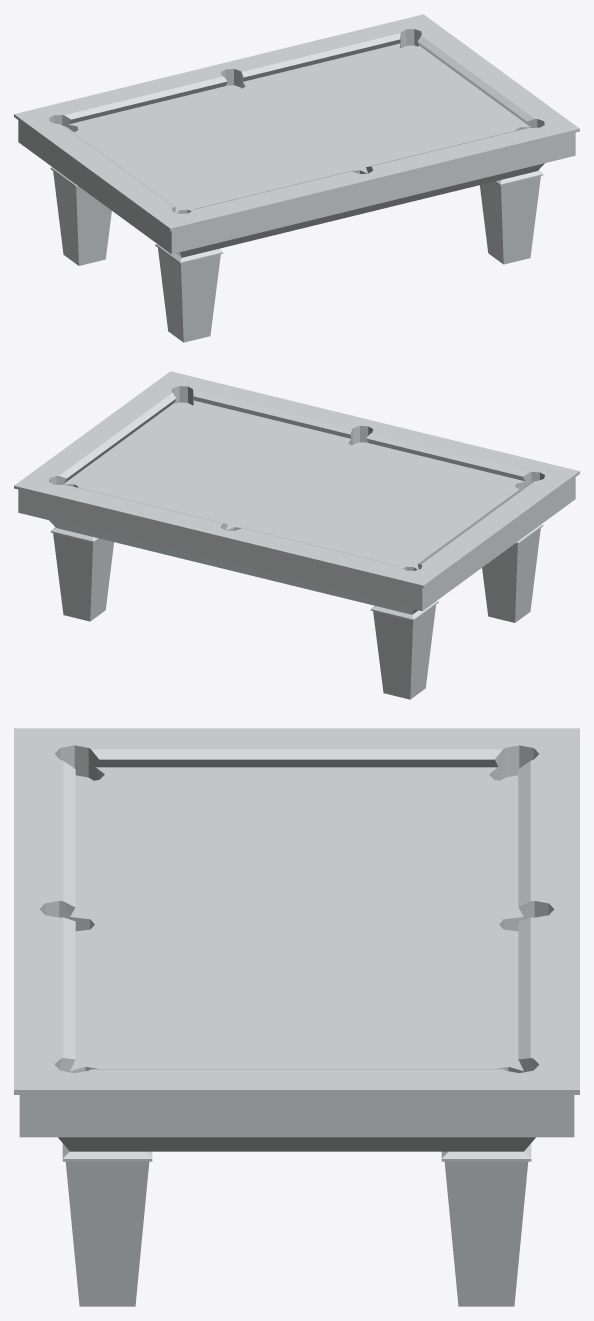
File: table.glb
The picture shows the model from 3 angles, top to bottom: view 1: azimuth 30°, elevation 25°; view 2: azimuth 150°, elevation 25°; view 3: azimuth 270°, elevation 25°; orthographic projection. The views are drawn at different scales.
Parts seen in each view (by area): view 1: table; view 2: table; view 3: table.
Boxes of the visible parts, <box> form: table: <box>14,14,579,342</box>; table: <box>14,371,579,699</box>; table: <box>14,728,579,1306</box>.
Size of the model in its own units: 15.29 by 4.81 by 10.12.
Materials: 1 (1 with a texture image).
